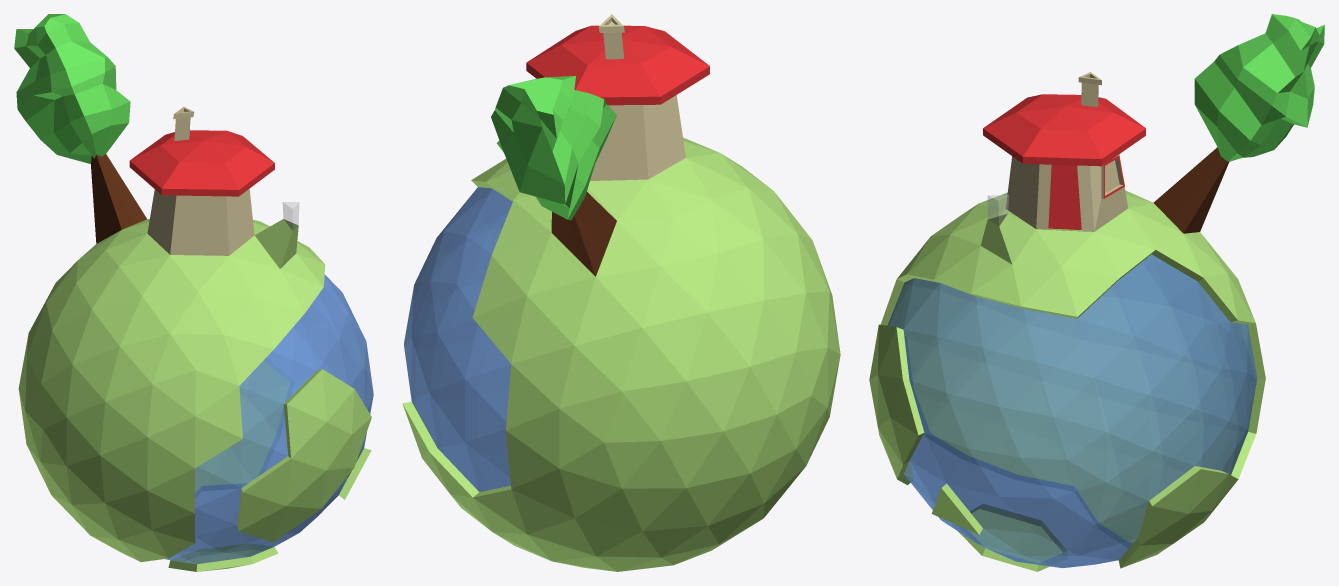
The model's file is summer-planet-task7-cart263.gltf.
The picture shows the model from 3 angles, left to right: view 1: azimuth 30°, elevation 25°; view 2: azimuth 150°, elevation 25°; view 3: azimuth 270°, elevation 25°; orthographic projection. The views are drawn at different scales.
Parts seen in each view (by area): view 1: summer-planet; view 2: summer-planet; view 3: summer-planet.
Part boxes in pixels (left/top/right/bottom): summer-planet: left=14, top=14, right=373, bottom=571; summer-planet: left=402, top=14, right=840, bottom=571; summer-planet: left=869, top=14, right=1324, bottom=571.
Bounding box in the file's own units: 1.96 × 2.87 × 2.3.
